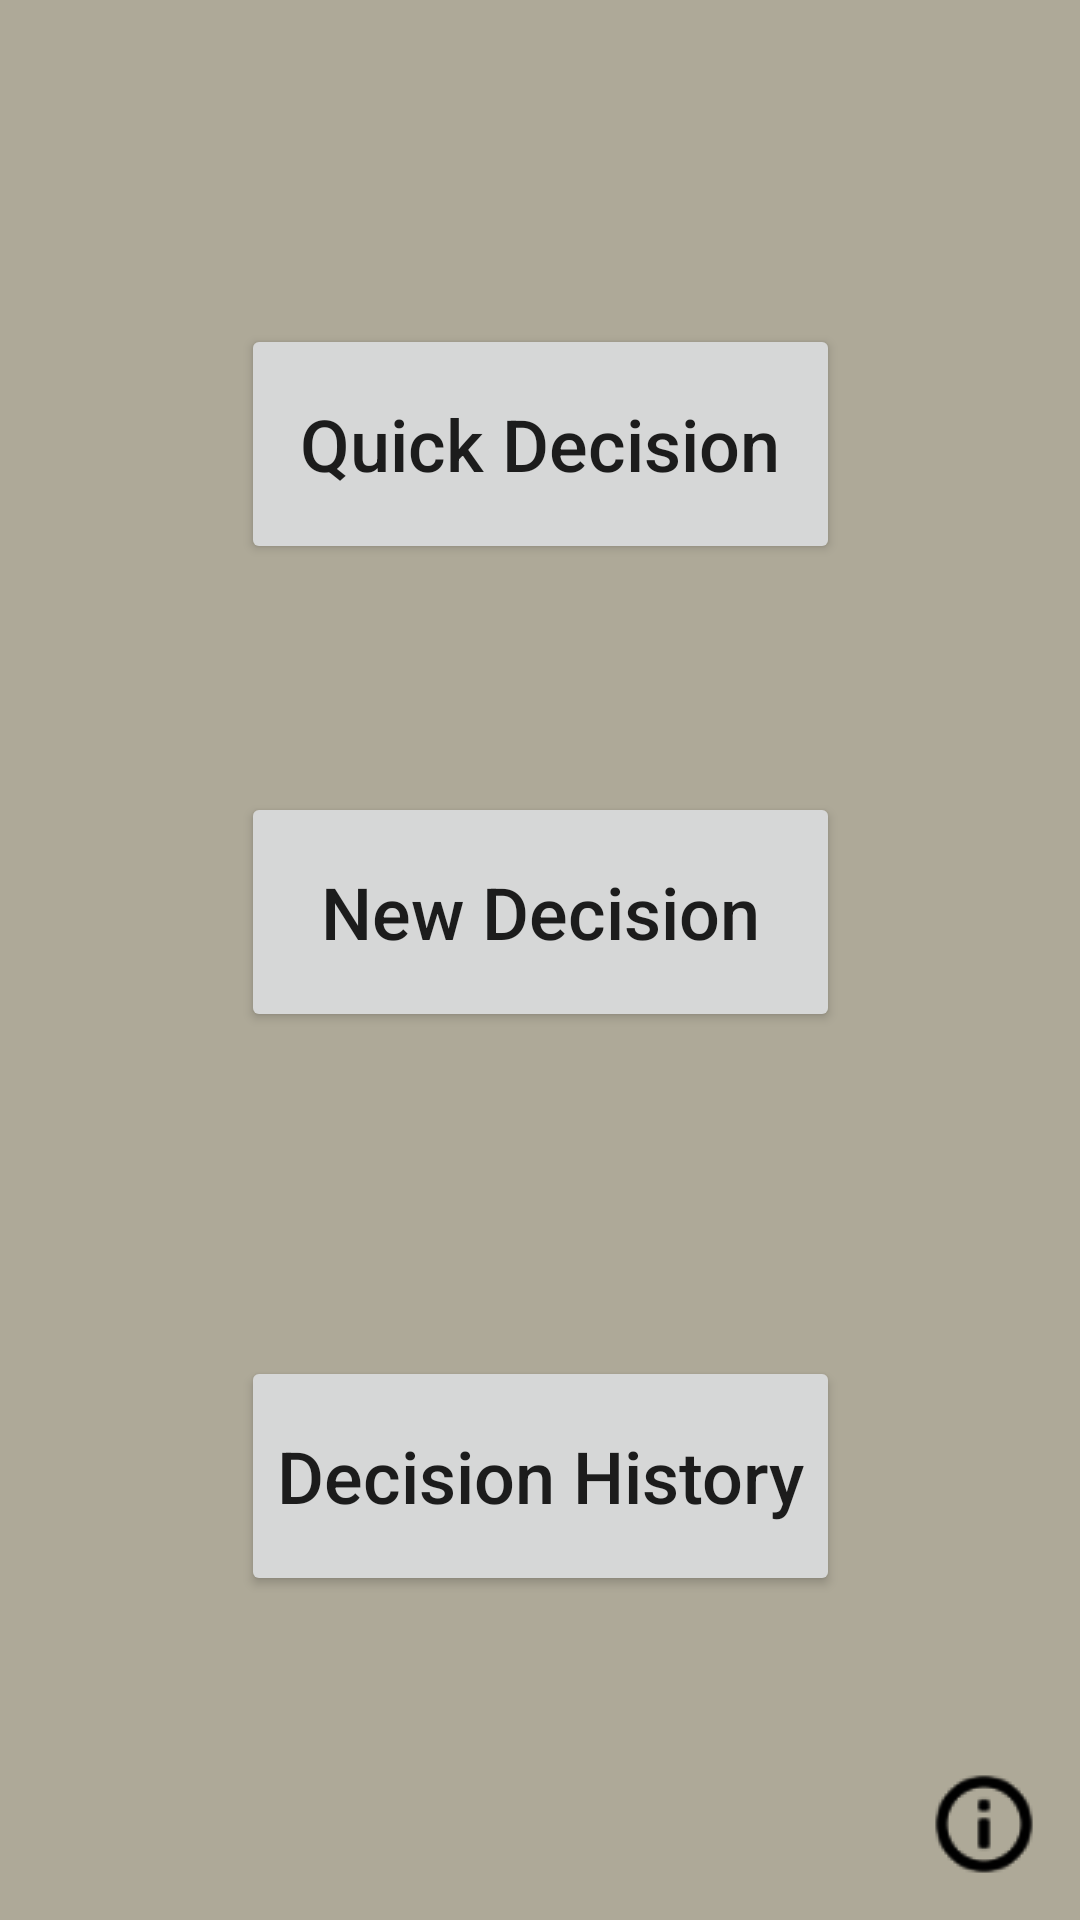

Named icons in this screenshot (1080×1920) and their centers, point (x, y):
info: point (984, 1824)
